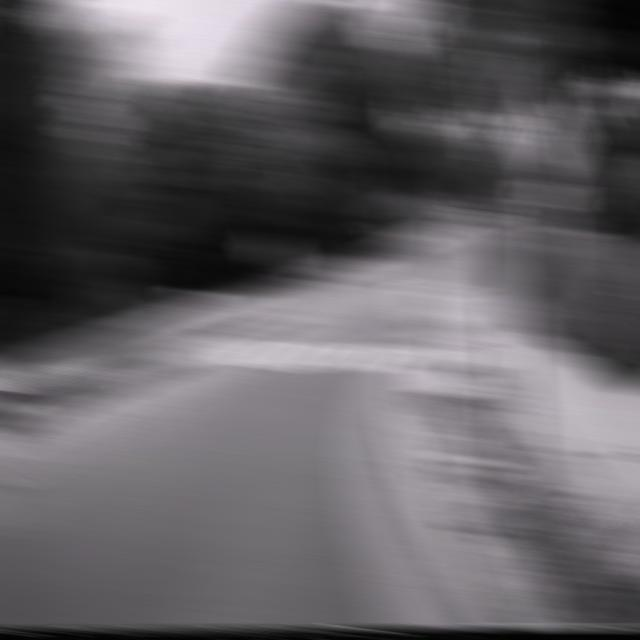pedestrianCrossing: (513, 92, 581, 184)
